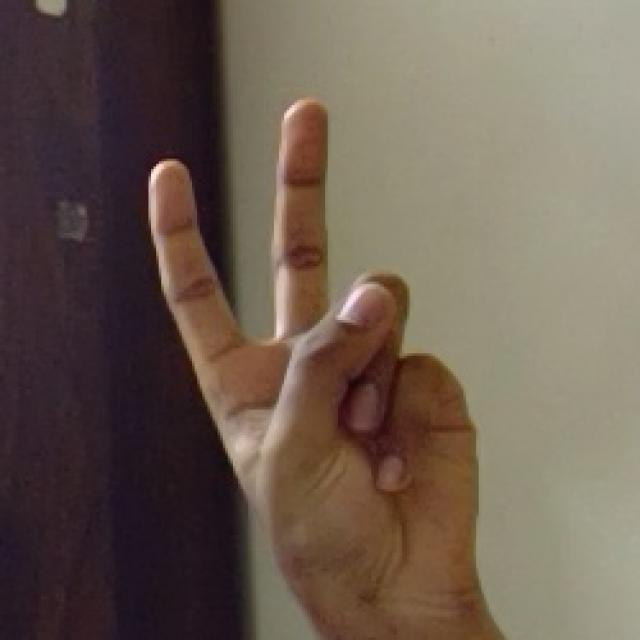Numeric-2: (149, 88, 483, 585)
